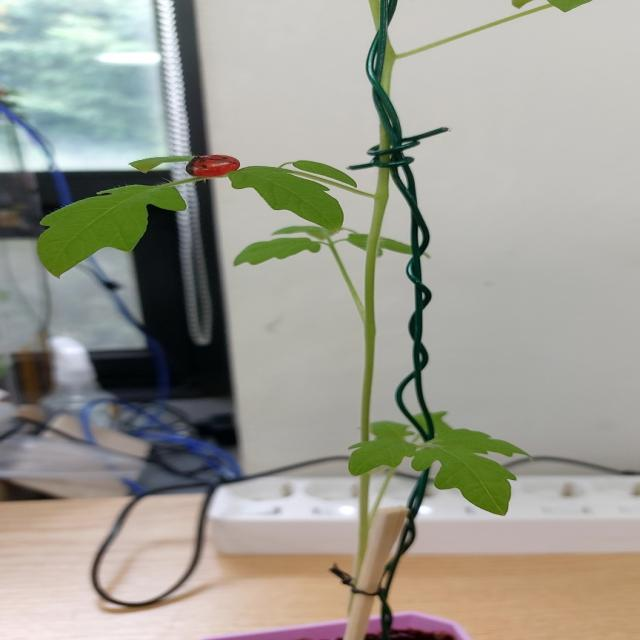bug: (168, 140, 263, 190)
